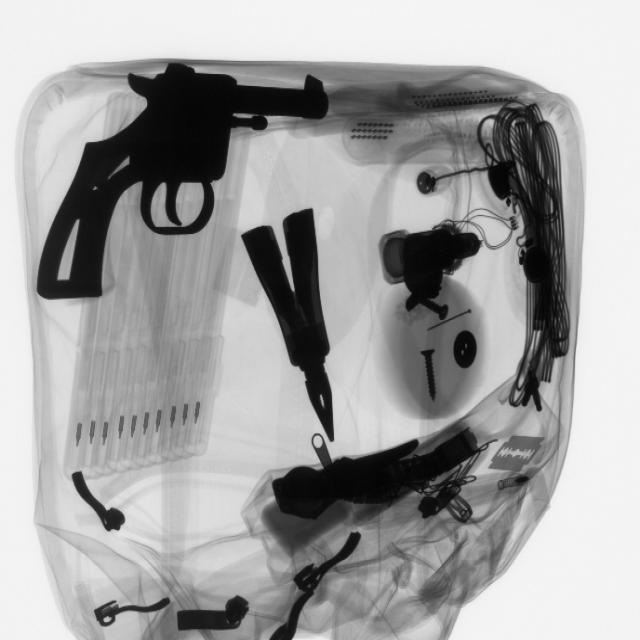BLADE: (489, 429, 547, 480)
GUN: (36, 70, 332, 307)
SCREW: (408, 341, 454, 411)
